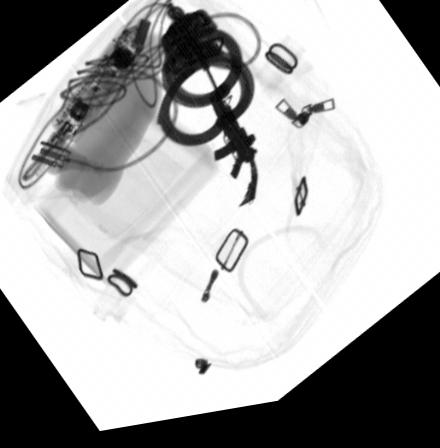Gun: (187, 44, 261, 219)
HandCuffs: (152, 7, 256, 154)
